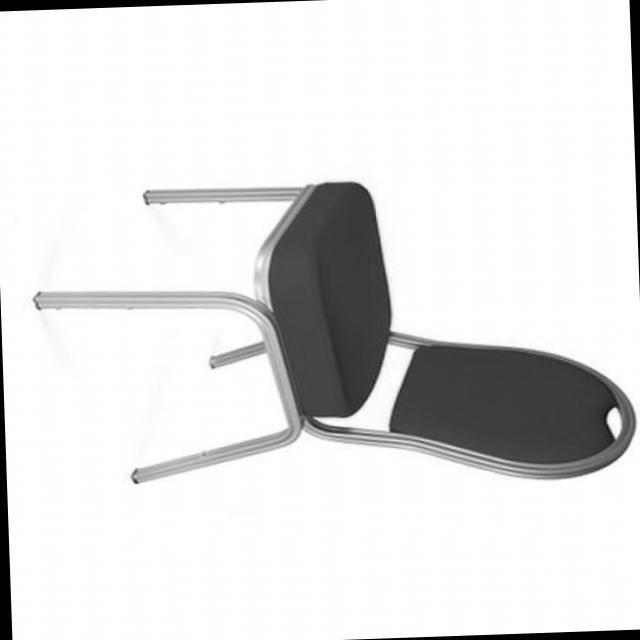chair: (26, 168, 634, 498)
